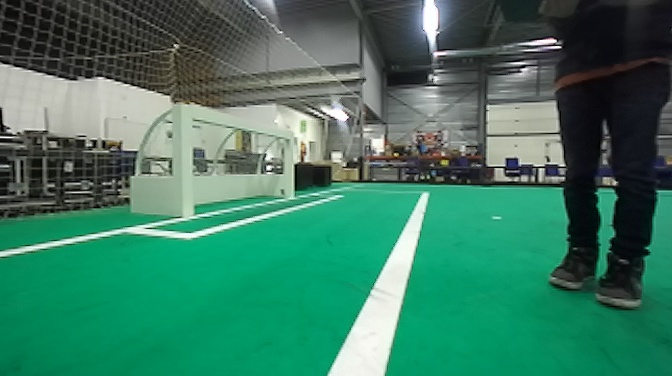goalpost: (169, 100, 197, 219), (283, 132, 302, 199)
human: (520, 2, 660, 316)
